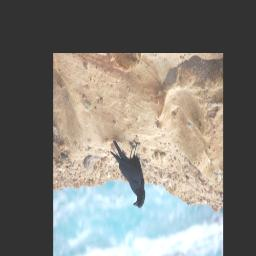Crow: (110, 137, 146, 211)
